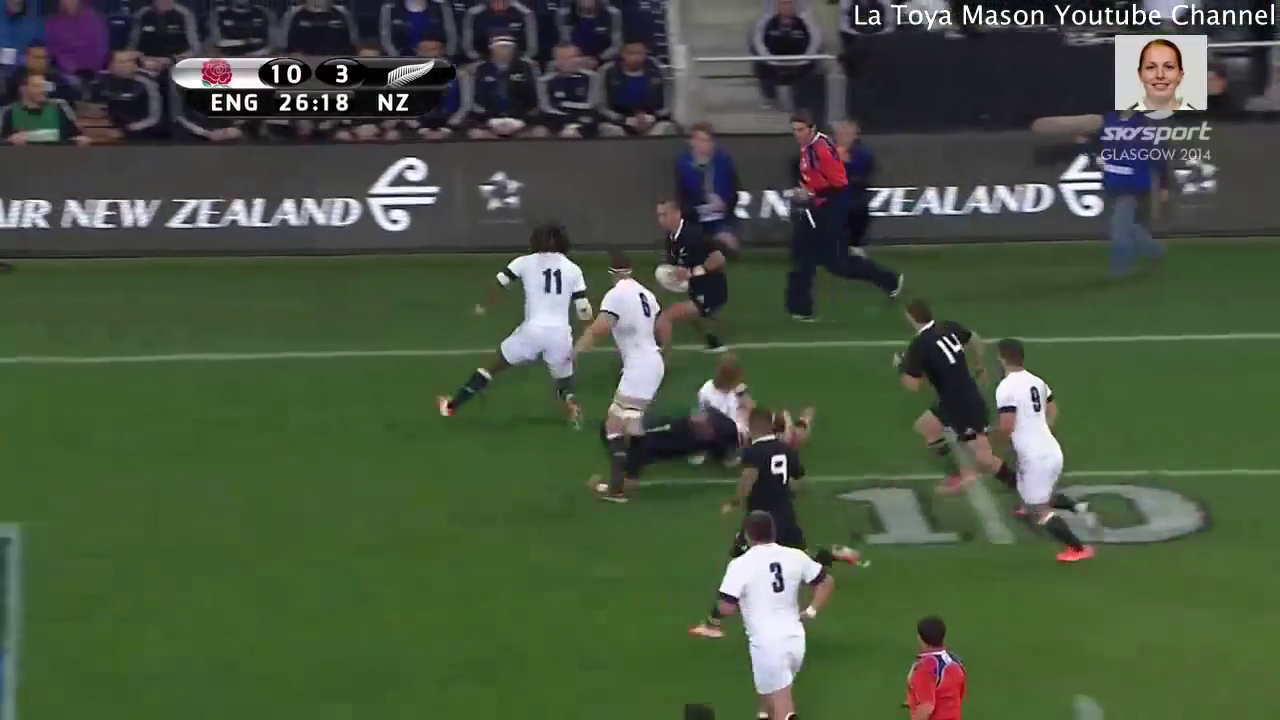ball: (648, 251, 694, 300)
player: (684, 401, 874, 655), (425, 218, 592, 436), (701, 500, 847, 720), (979, 332, 1101, 568), (883, 292, 1018, 503), (571, 250, 665, 510), (643, 195, 742, 359), (589, 404, 752, 478), (893, 610, 974, 720), (685, 353, 761, 428)
